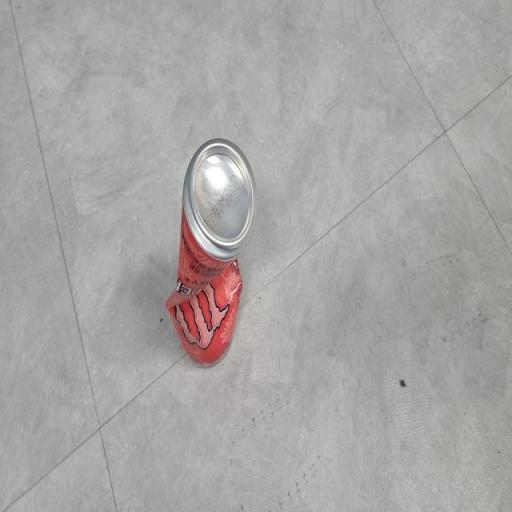metal: (156, 123, 266, 377)
